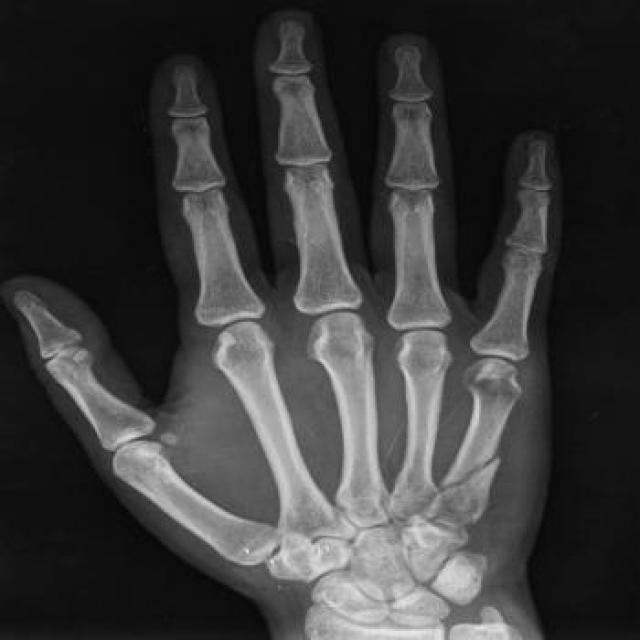fracture: (438, 449, 515, 498)
